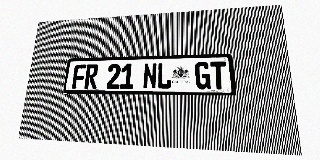1: (120, 63, 134, 89)
2: (106, 64, 121, 89)
F: (72, 64, 86, 89)
G: (195, 62, 211, 89)
L: (157, 63, 171, 89)
N: (143, 63, 157, 89)
R: (84, 64, 99, 89)
T: (210, 61, 227, 89)
